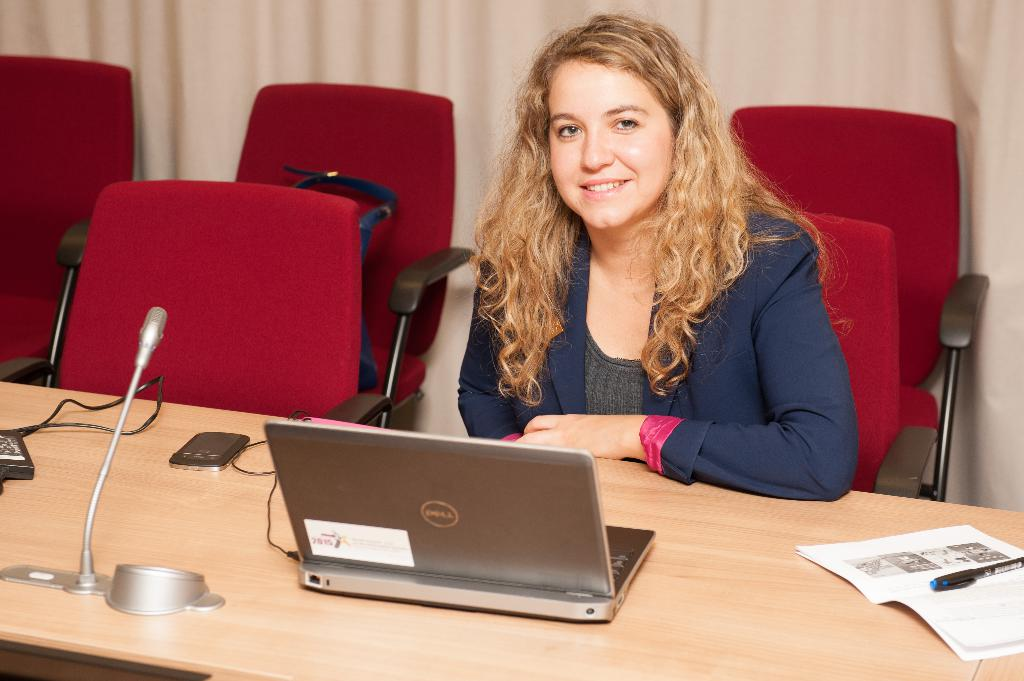Laptop: (260, 419, 655, 625)
